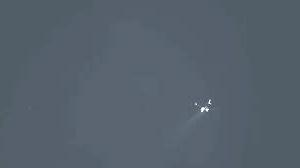Plane: (171, 89, 231, 126)
